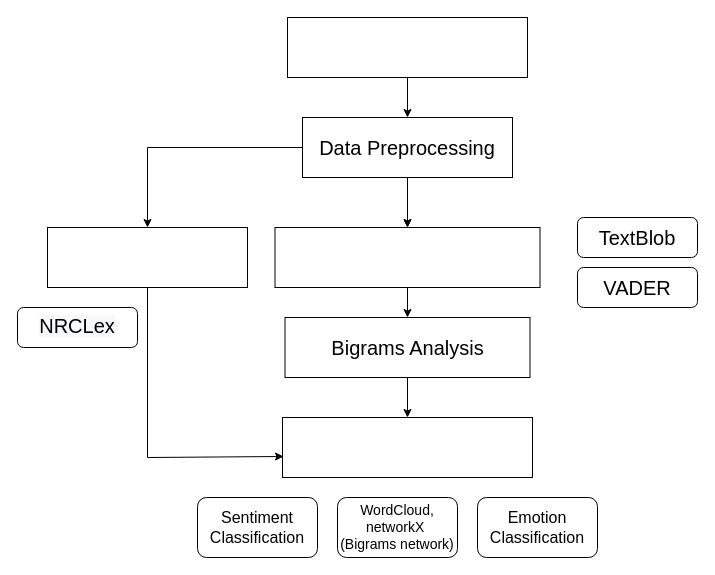
The diagram is 715 pixels wide and 575 high, and some of its shapes have lost their labels. The shapes that lost their labels are listed below. From the top down, each one's centre as x and y in pixels, then its label:
(x=407, y=47): Data Extraction
(x=147, y=257): Emotion Analysis
(x=407, y=257): Sentiment Analysis
(x=407, y=447): Inferences
